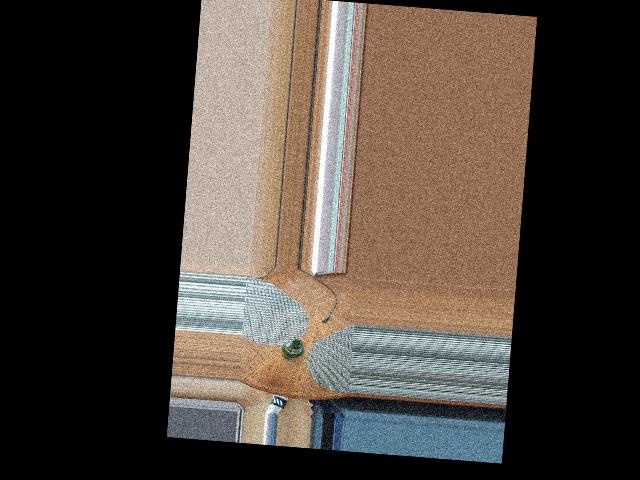beer: (280, 338, 304, 360)
